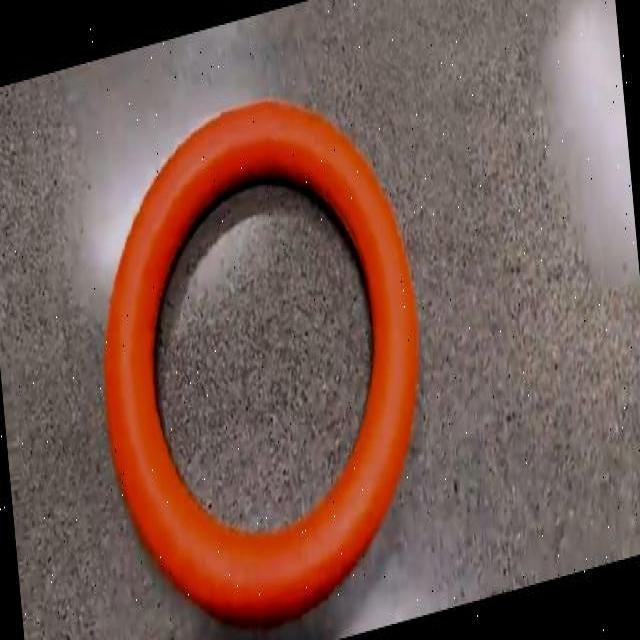note: (105, 99, 419, 621)
